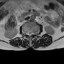CCS_normal: (29, 31, 30, 39)
LFS_normal: (33, 30, 35, 36)
LLS_normal: (30, 31, 32, 37)
RFS_stenosis: (25, 31, 27, 37)
RLS_normal: (27, 31, 29, 36)
